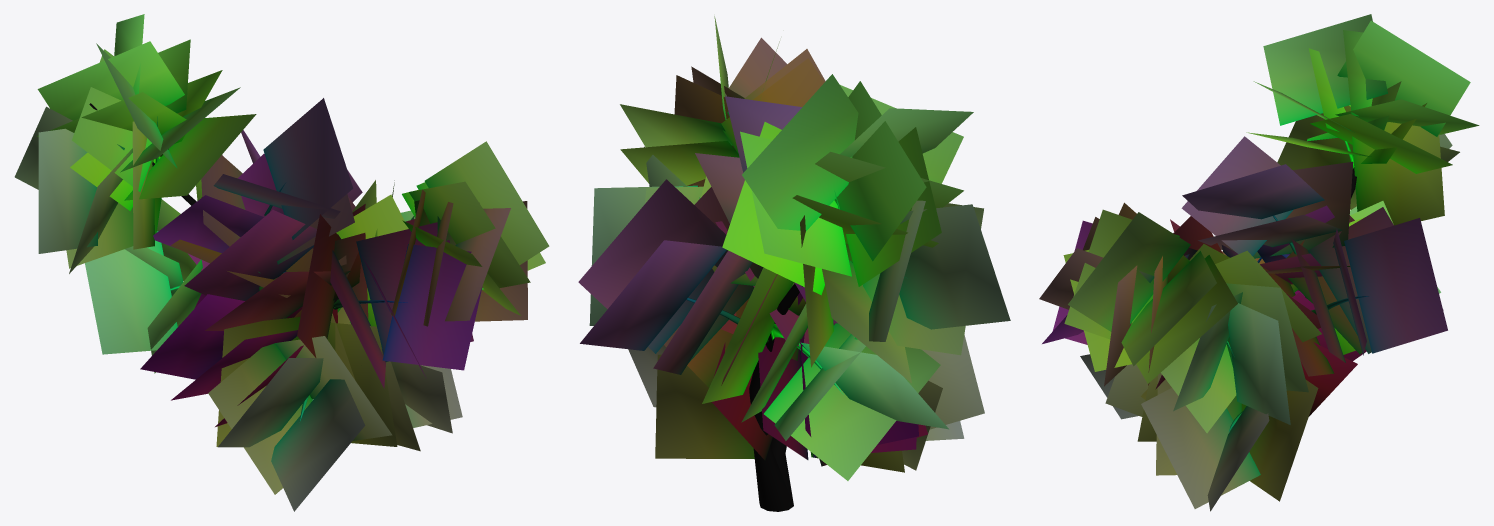
File: URP_P15_Tree_6_LOD_2.fbx
3 renders of one model, left to right at view 1: azimuth 30°, elevation 25°; view 2: azimuth 150°, elevation 25°; view 3: azimuth 270°, elevation 25°, orthographic. The views are drawn at different scales.
Visible parts, largest first — view 1: Tree_6_LOD_2; view 2: Tree_6_LOD_2; view 3: Tree_6_LOD_2.
Part boxes in pixels (box(x1,y1,x2,y2)): Tree_6_LOD_2: box(14, 14, 549, 511); Tree_6_LOD_2: box(578, 16, 1010, 511); Tree_6_LOD_2: box(1039, 14, 1479, 511).
Size of the model in its own units: 716 by 719 by 704.
